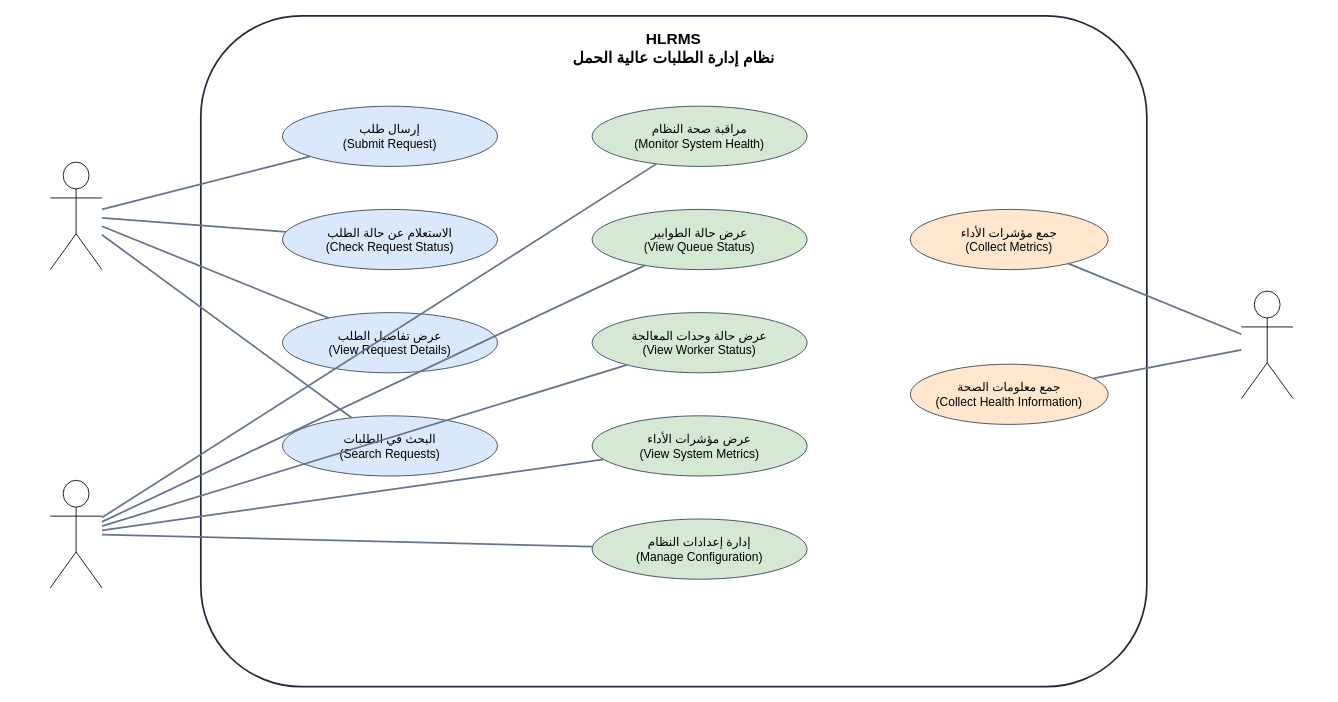
Some shapes in this 1338 by 702 pixel diagram are drawn without their labels. The shapes that lost their labels are listed below. From the top down, each one's centre as x and y in pixels, then its label:
At (x=75, y=215): "النظام العميل (Client System)".
At (x=1267, y=344): "منصة المراقبة (Monitoring Platform)".
At (x=75, y=533): "مسؤول النظام (System Administrator)".
